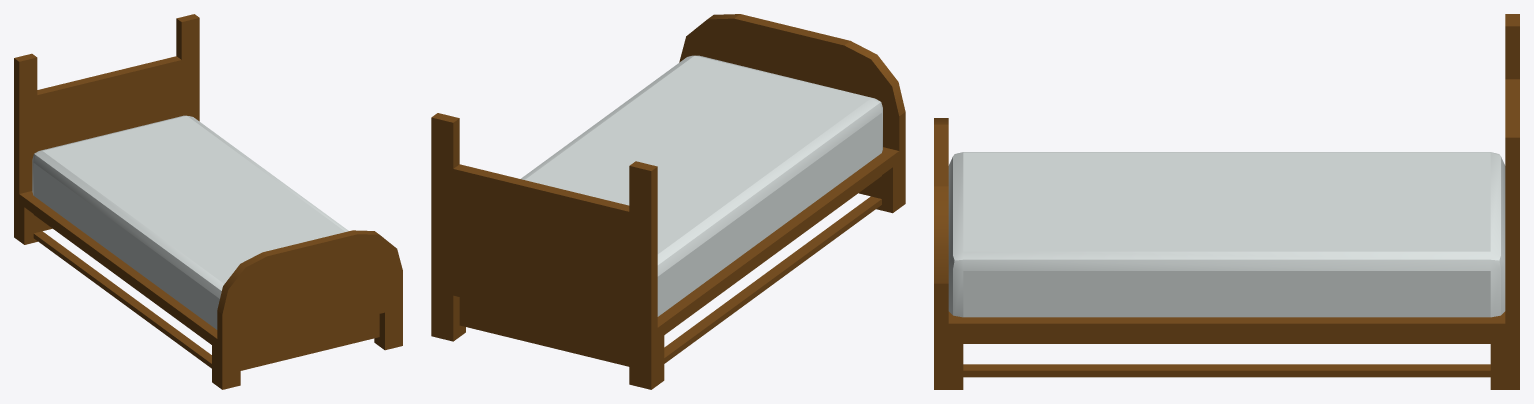
The model's file is Bed.fbx.
3 views of the same model, side by side, from view 1: azimuth 30°, elevation 25°; view 2: azimuth 150°, elevation 25°; view 3: azimuth 270°, elevation 25° (orthographic). The views are drawn at different scales.
Parts seen in each view (by area): view 1: Bed; view 2: Bed; view 3: Bed.
Boxes of the visible parts, x1,y1,x2,y2 form: Bed: (14,14,402,389); Bed: (431,14,905,389); Bed: (934,14,1519,389).
Size of the model in its own units: 100 by 95 by 200.
